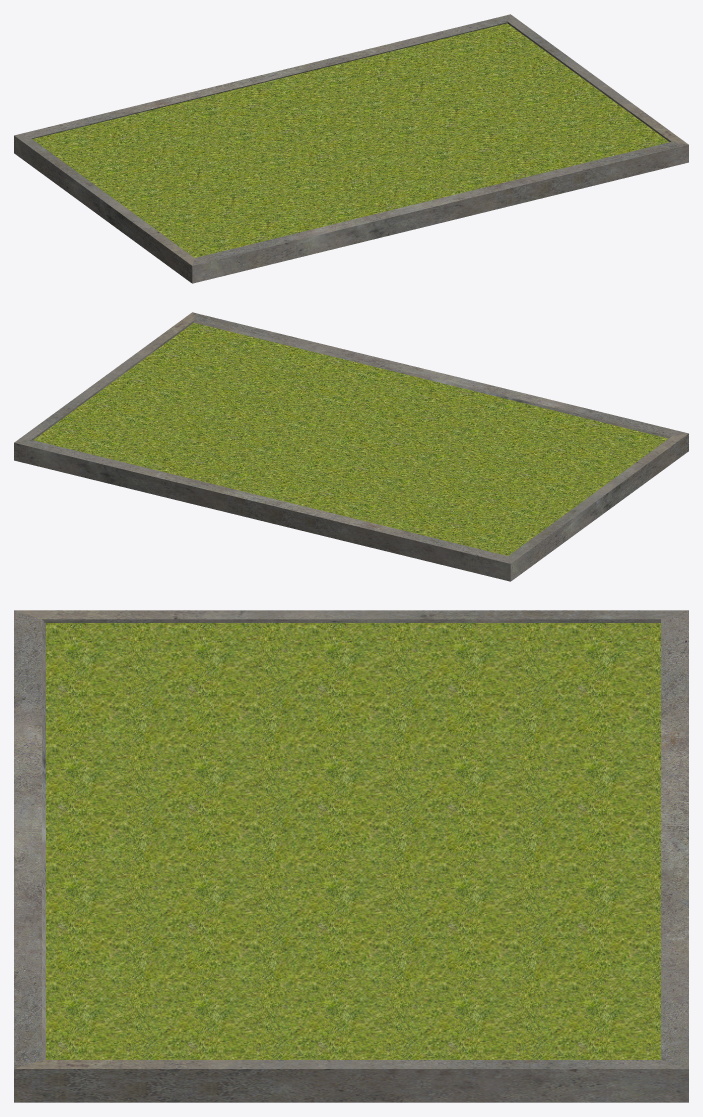
3 renders of one model, top to bottom at view 1: azimuth 30°, elevation 25°; view 2: azimuth 150°, elevation 25°; view 3: azimuth 270°, elevation 25°, orthographic. The views are drawn at different scales.
Parts seen in each view (by area): view 1: Gr_01_02; view 2: Gr_01_02; view 3: Gr_01_02.
Boxes of the visible parts, left/top/right/bottom form: Gr_01_02: left=14, top=14, right=688, bottom=283; Gr_01_02: left=14, top=312, right=688, bottom=581; Gr_01_02: left=14, top=610, right=688, bottom=1102.
Bounding box in the file's own units: 2839 × 97 × 1765.
